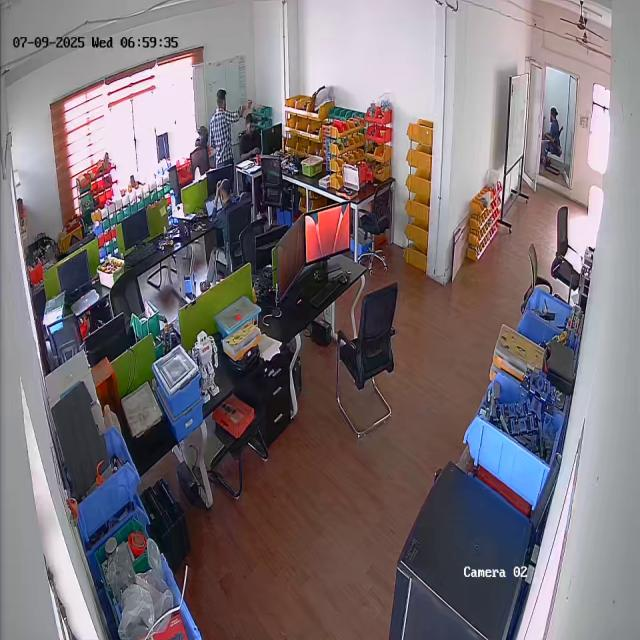person: (206, 179, 245, 273), (208, 88, 244, 172), (542, 103, 563, 166)
